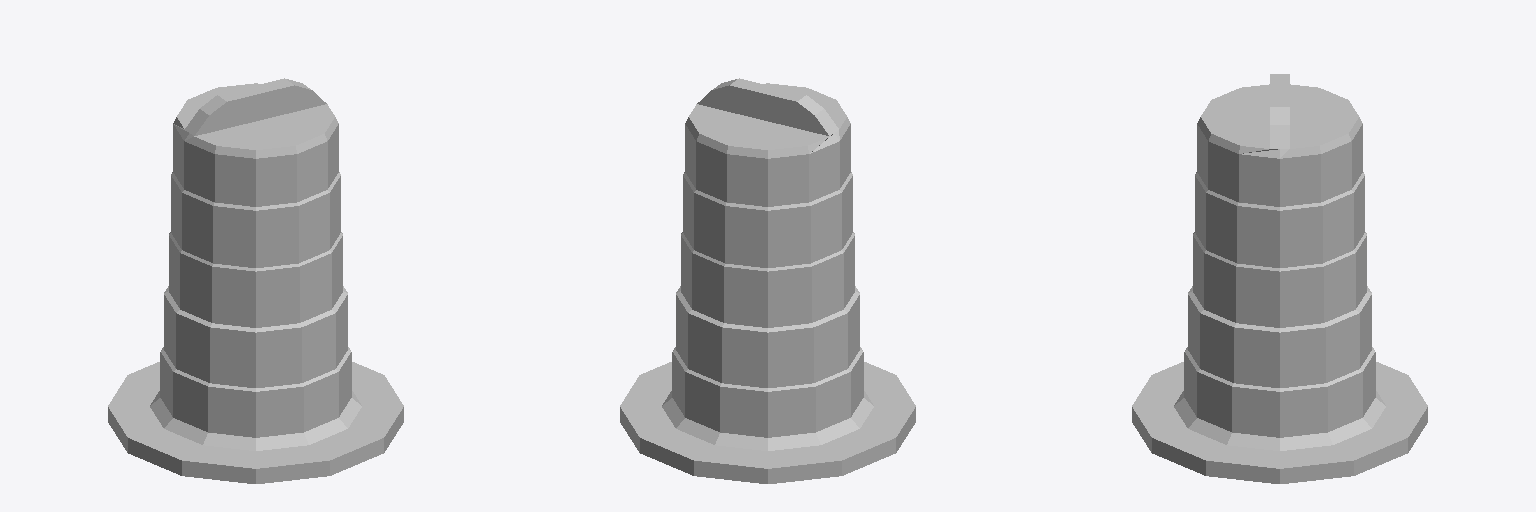
Rendered from TrafficCone_2.obj.
The picture shows the model from 3 angles: view 1: azimuth 30°, elevation 25°; view 2: azimuth 150°, elevation 25°; view 3: azimuth 270°, elevation 25°; orthographic projection.
Visible parts, largest first — view 1: TrafficCone_2_Cylinder.019; view 2: TrafficCone_2_Cylinder.019; view 3: TrafficCone_2_Cylinder.019.
Part boxes in pixels (left/top/right/bottom): TrafficCone_2_Cylinder.019: left=108, top=78, right=403, bottom=483; TrafficCone_2_Cylinder.019: left=620, top=78, right=915, bottom=483; TrafficCone_2_Cylinder.019: left=1132, top=74, right=1427, bottom=483.
Bounding box in the file's own units: 0.5954 × 0.7356 × 0.5954.